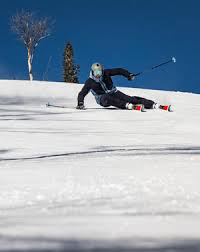skis: (121, 102, 177, 113)
